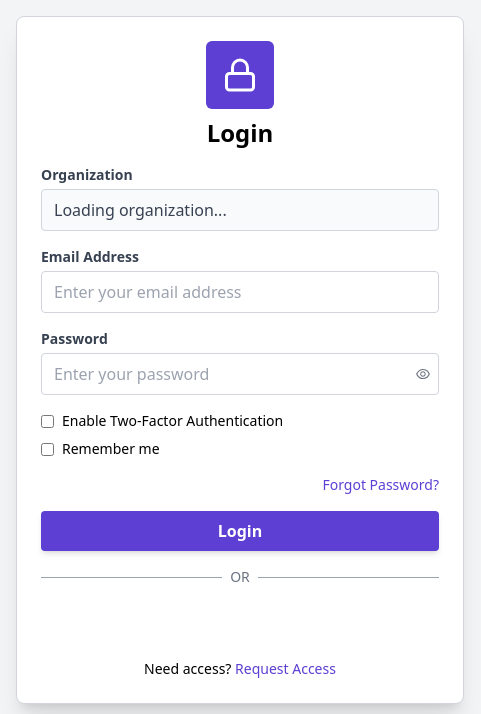
Test case: Login component › shows error if email or password is missing
Click the button "Login" at (240, 531), box [41,511,439,551]
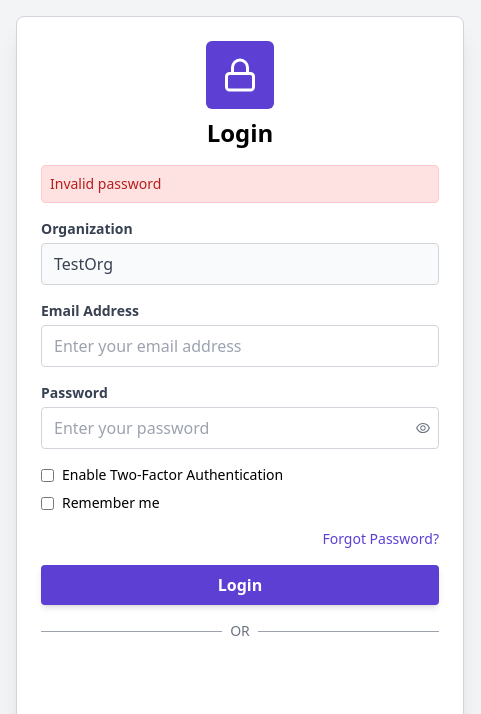
Now the text "Invalid password" is shown, box [41,165,439,203]
